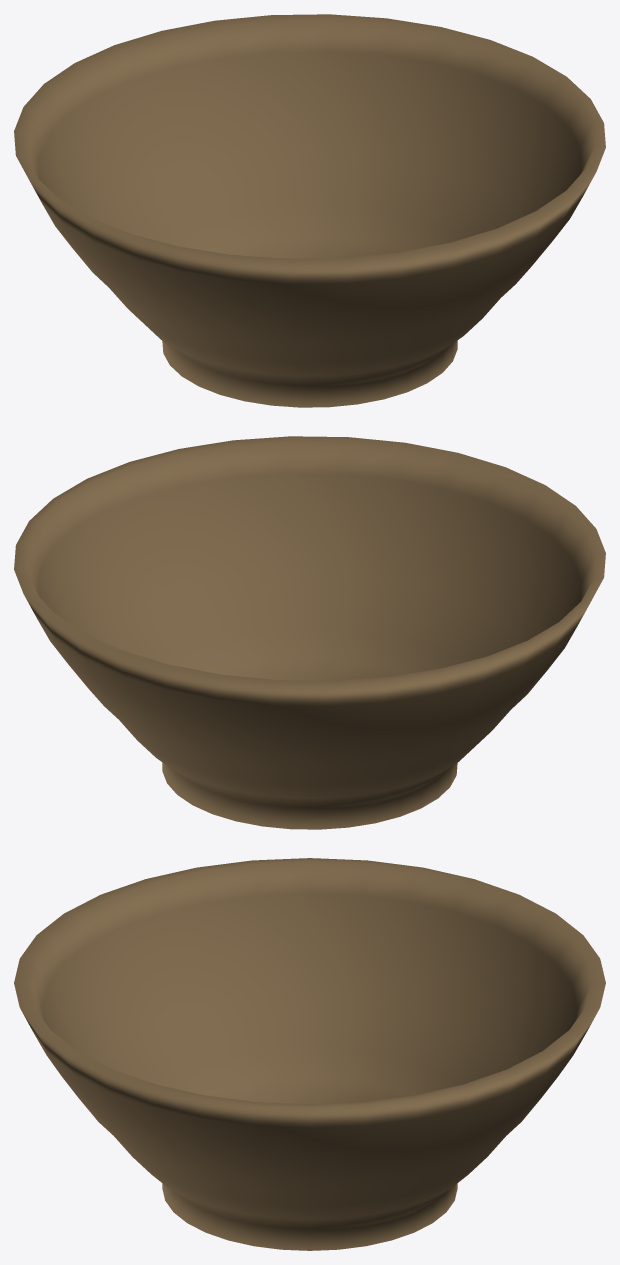
The model's file is TIGELA.fbx.
3 renders of one model, top to bottom at view 1: azimuth 30°, elevation 25°; view 2: azimuth 150°, elevation 25°; view 3: azimuth 270°, elevation 25°, orthographic.
Parts seen in each view (by area): view 1: Cube; view 2: Cube; view 3: Cube.
Boxes of the visible parts, x1,y1,x2,y2 form: Cube: (14, 14, 605, 407); Cube: (14, 436, 605, 829); Cube: (14, 858, 605, 1250).
Bounding box in the file's own units: 401 × 154 × 401.
